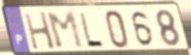0: (104, 9, 130, 50)
6: (130, 9, 155, 47)
8: (155, 8, 183, 48)
H: (22, 10, 58, 51)
L: (78, 11, 106, 49)
M: (45, 10, 87, 51)
